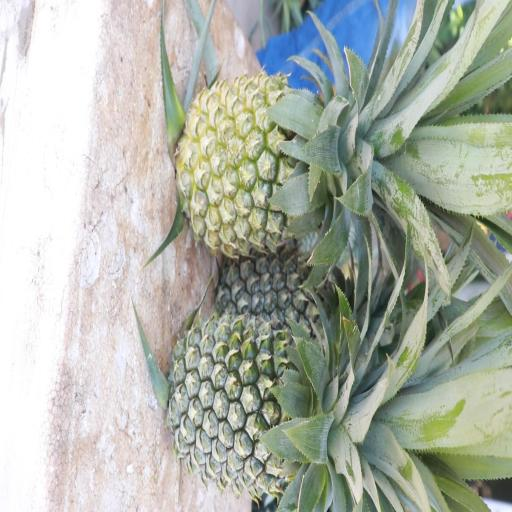Pineapple - v8 v1: (182, 68, 366, 249)
